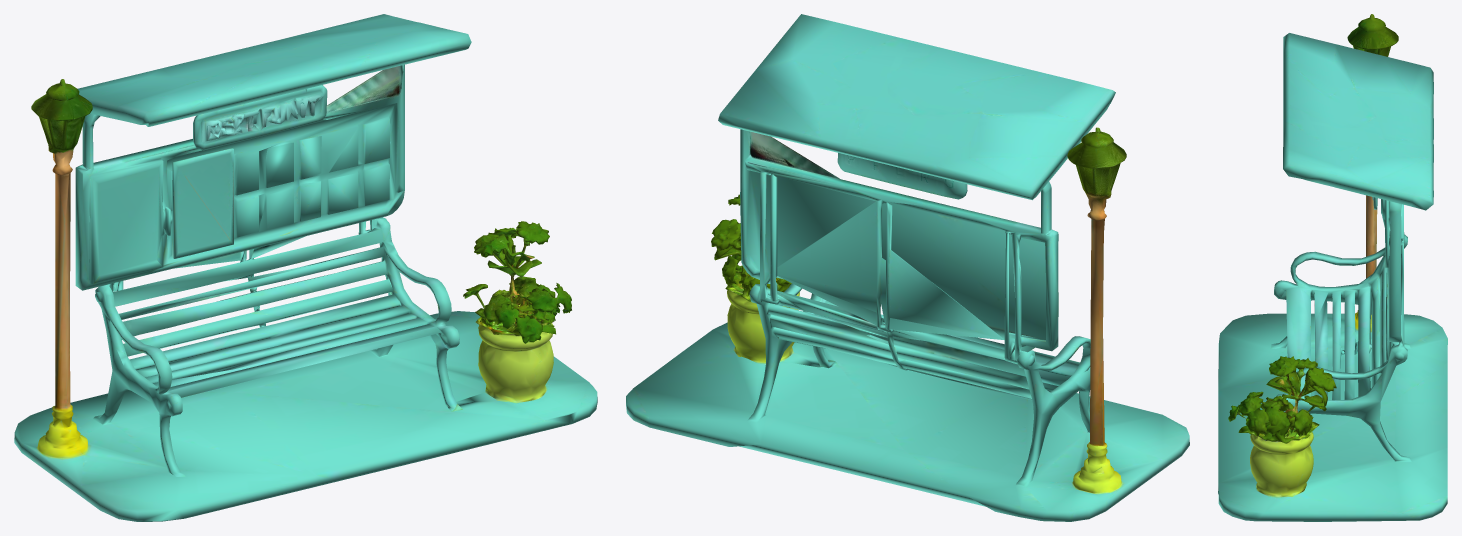
File: vocab_bench.glb
3 views of the same model, side by side, from view 1: azimuth 30°, elevation 25°; view 2: azimuth 150°, elevation 25°; view 3: azimuth 270°, elevation 25° (orthographic). The views are drawn at different scales.
Visible parts, largest first — view 1: Mesh_0; view 2: Mesh_0; view 3: Mesh_0.
Boxes of the visible parts, x1,y1,x2,y2 form: Mesh_0: [14, 14, 597, 521]; Mesh_0: [626, 14, 1189, 521]; Mesh_0: [1218, 14, 1447, 521].
Size of the model in its own units: 1.08 by 0.8 by 0.5226.
Materials: 1 (1 with a texture image).
